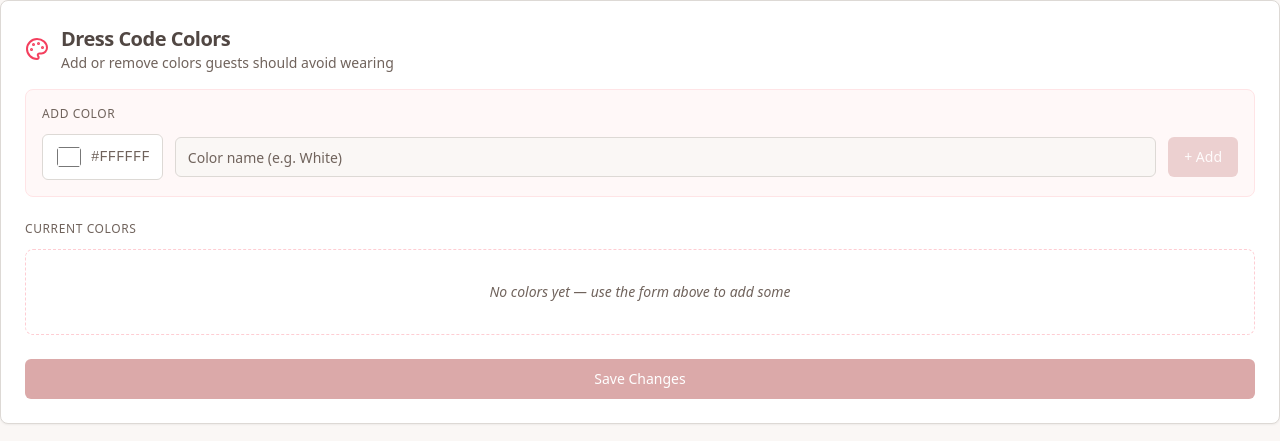
DressCodePage › adds a color to the list and clears the input
Step 1. Type "White" into the field with test id "input-new-label" → (666, 157), box x1=175 y1=137 x2=1156 y2=177
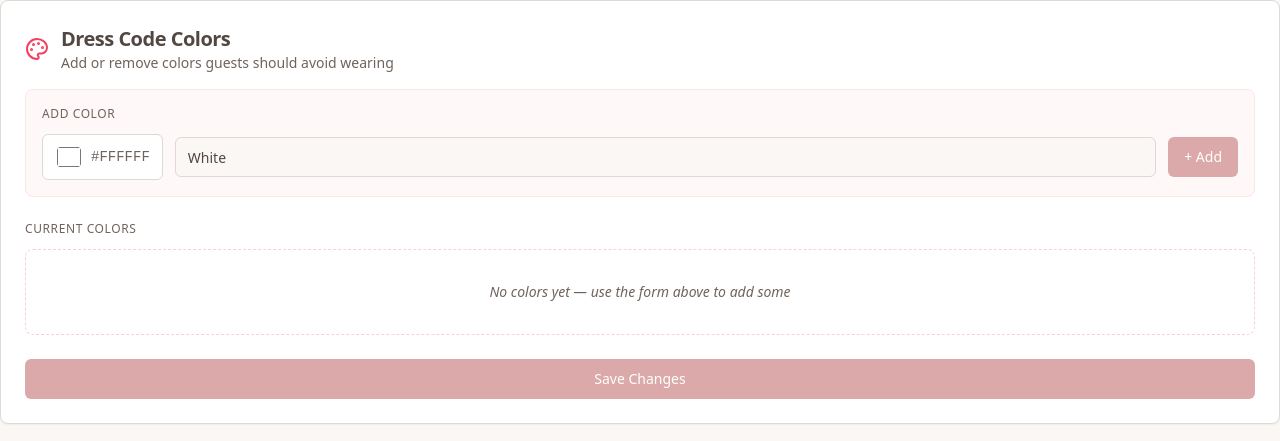
Step 2. Click the button with test id "button-add-color" → (1203, 157), box x1=1168 y1=137 x2=1238 y2=177
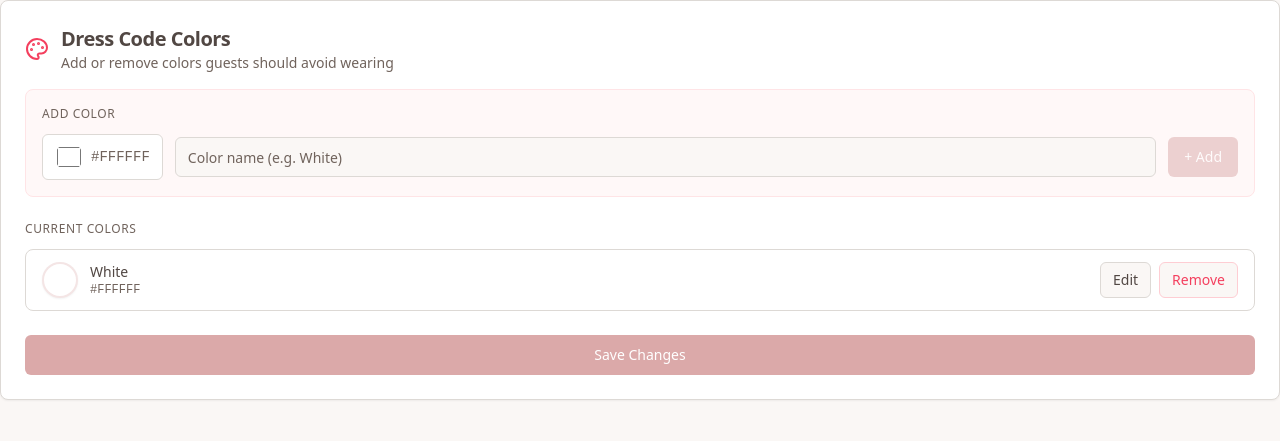
Expected: the text "White" is shown, x1=90 y1=262 x2=128 y2=281
Expected: the text "No colors yet" is gone
Expected: the field with test id "input-new-label" is empty, x1=175 y1=137 x2=1156 y2=177
